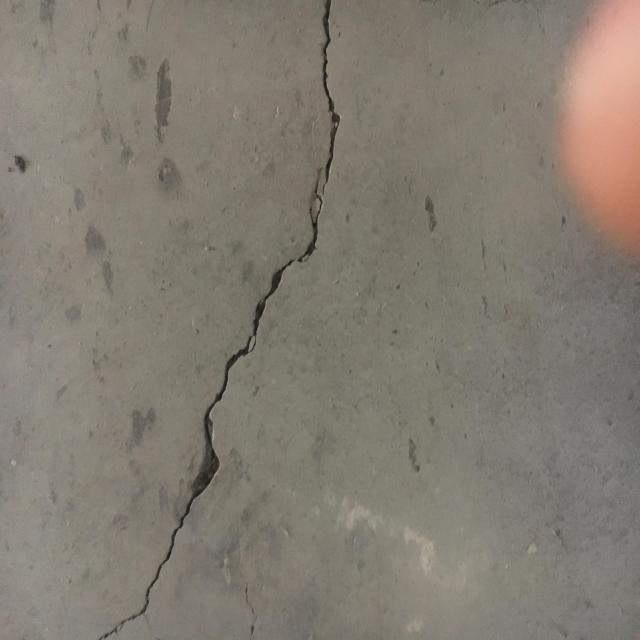Rachadura: (98, 0, 340, 640)
